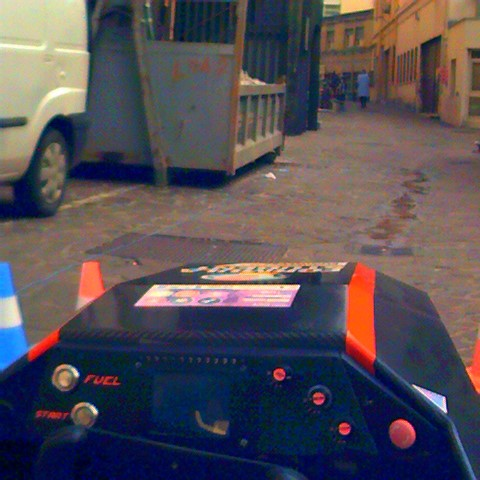cone: (1, 260, 25, 371)
